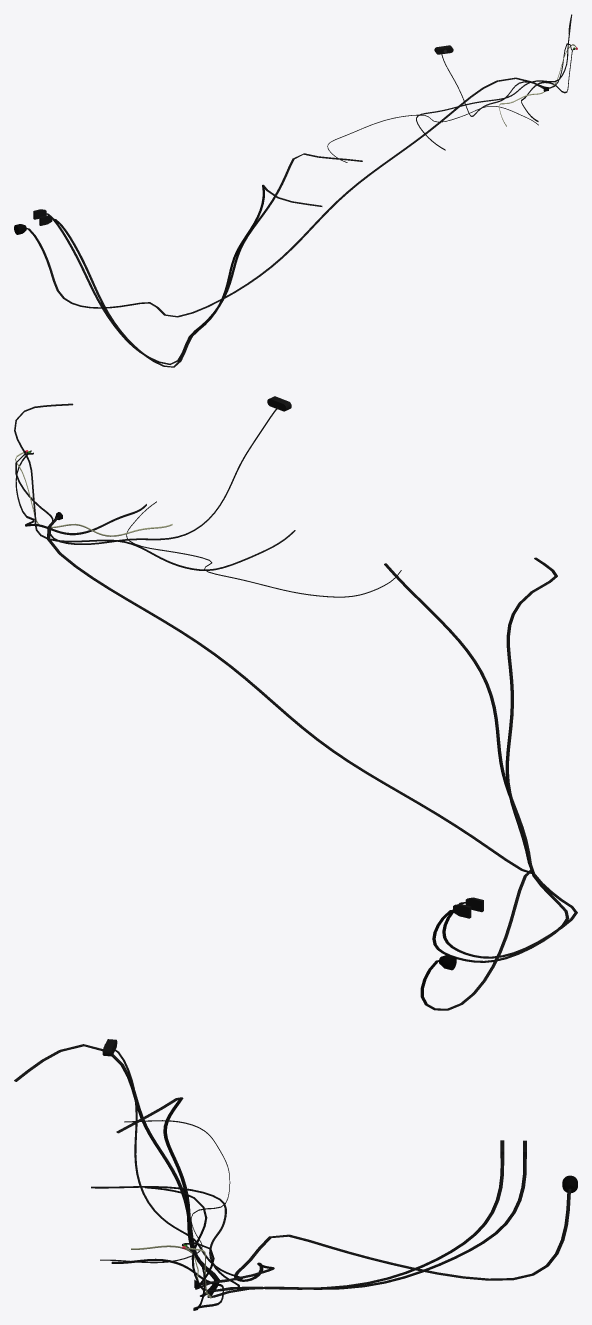
File: ScrivaniaEnzoCaviPrese.gltf
3 renders of one model, top to bottom at view 1: azimuth 30°, elevation 25°; view 2: azimuth 150°, elevation 25°; view 3: azimuth 270°, elevation 25°, orthographic. The views are drawn at different scales.
Visible parts, largest first — view 1: Bianco Pc Cavo, Bianco Altoparlanti Cavo Alimentazione, Bianco Telefono Cavo, Bianco Monitor Cavo; view 2: Bianco Pc Cavo, Bianco Altoparlanti Cavo Alimentazione, Bianco Telefono Cavo, Bianco Monitor Cavo, Bianco Pc WebCam Cavo; view 3: Bianco Telefono Cavo, Bianco Altoparlanti Cavo Alimentazione, Bianco Pc Cavo, Bianco Monitor Cavo, Bianco Pc WebCam Cavo, Bianco Altoparlanti Cavo In Pc, Bianco Altoparlanti Cavo Collegamento.
Boxes of the visible parts, box(x1,y1,x2,y2) form: Bianco Pc Cavo: box(26, 77, 544, 317); Bianco Altoparlanti Cavo Alimentazione: box(46, 153, 362, 364); Bianco Telefono Cavo: box(52, 184, 322, 367); Bianco Monitor Cavo: box(416, 14, 572, 150); Bianco Pc Cavo: box(47, 517, 533, 1010); Bianco Altoparlanti Cavo Alimentazione: box(384, 563, 569, 962); Bianco Telefono Cavo: box(442, 557, 577, 958); Bianco Monitor Cavo: box(14, 403, 295, 570); Bianco Pc WebCam Cavo: box(15, 407, 278, 544); Bianco Telefono Cavo: box(14, 1044, 504, 1296); Bianco Altoparlanti Cavo Alimentazione: box(116, 1097, 526, 1297); Bianco Pc Cavo: box(201, 1188, 571, 1284); Bianco Monitor Cavo: box(91, 1186, 239, 1291); Bianco Pc WebCam Cavo: box(114, 1049, 242, 1289); Bianco Altoparlanti Cavo In Pc: box(111, 1244, 223, 1310); Bianco Altoparlanti Cavo Collegamento: box(100, 1120, 230, 1263).
Bounding box in the file's own units: 1.78 × 1.11 × 1.31.
Materials: 6 (1 with a texture image).
